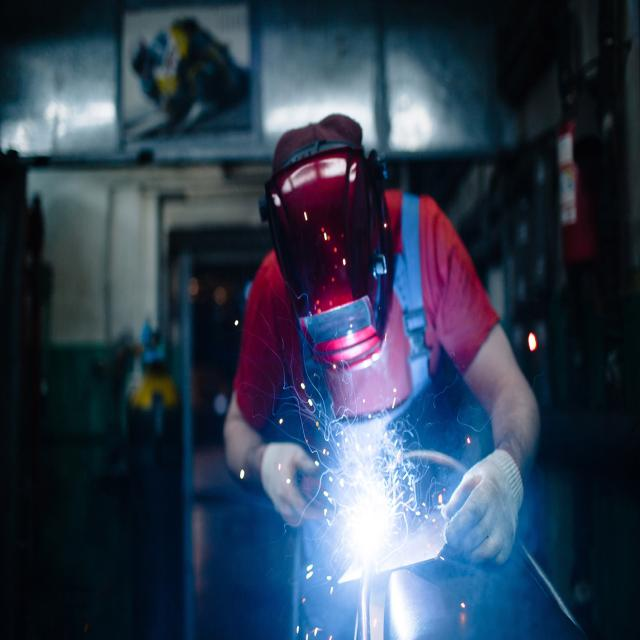welding: (349, 490, 394, 558)
